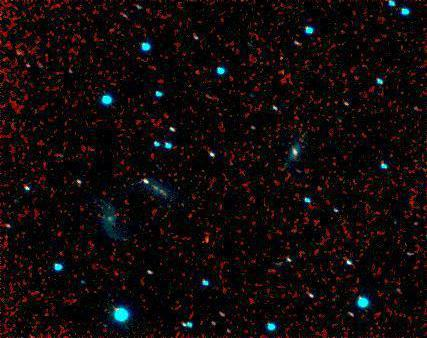star: (193, 224, 223, 254)
